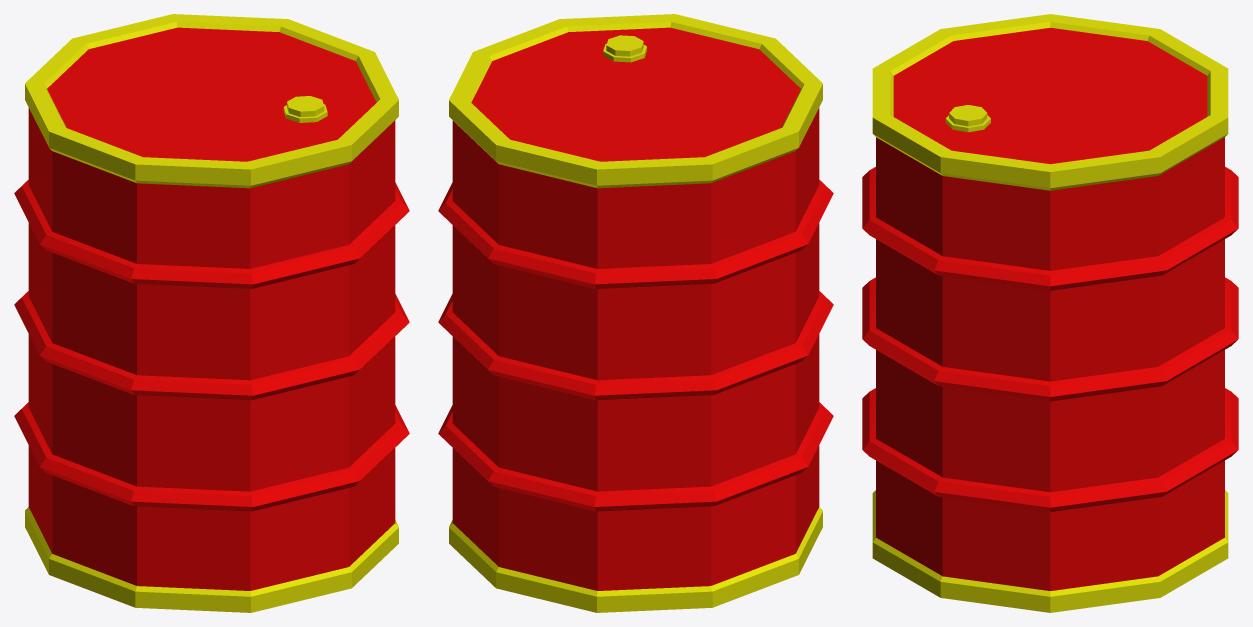
The model's file is Oildrum_SM.fbx.
The picture shows the model from 3 angles, left to right: view 1: azimuth 30°, elevation 25°; view 2: azimuth 150°, elevation 25°; view 3: azimuth 270°, elevation 25°; orthographic projection.
Parts seen in each view (by area): view 1: polySurface1; view 2: polySurface1; view 3: polySurface1.
Boxes of the visible parts, box(x1,y1,x2,y2) form: polySurface1: box(14, 14, 409, 612); polySurface1: box(438, 14, 833, 612); polySurface1: box(862, 14, 1238, 612).
Bounding box in the file's own units: 64.73 × 80.59 × 61.56.
